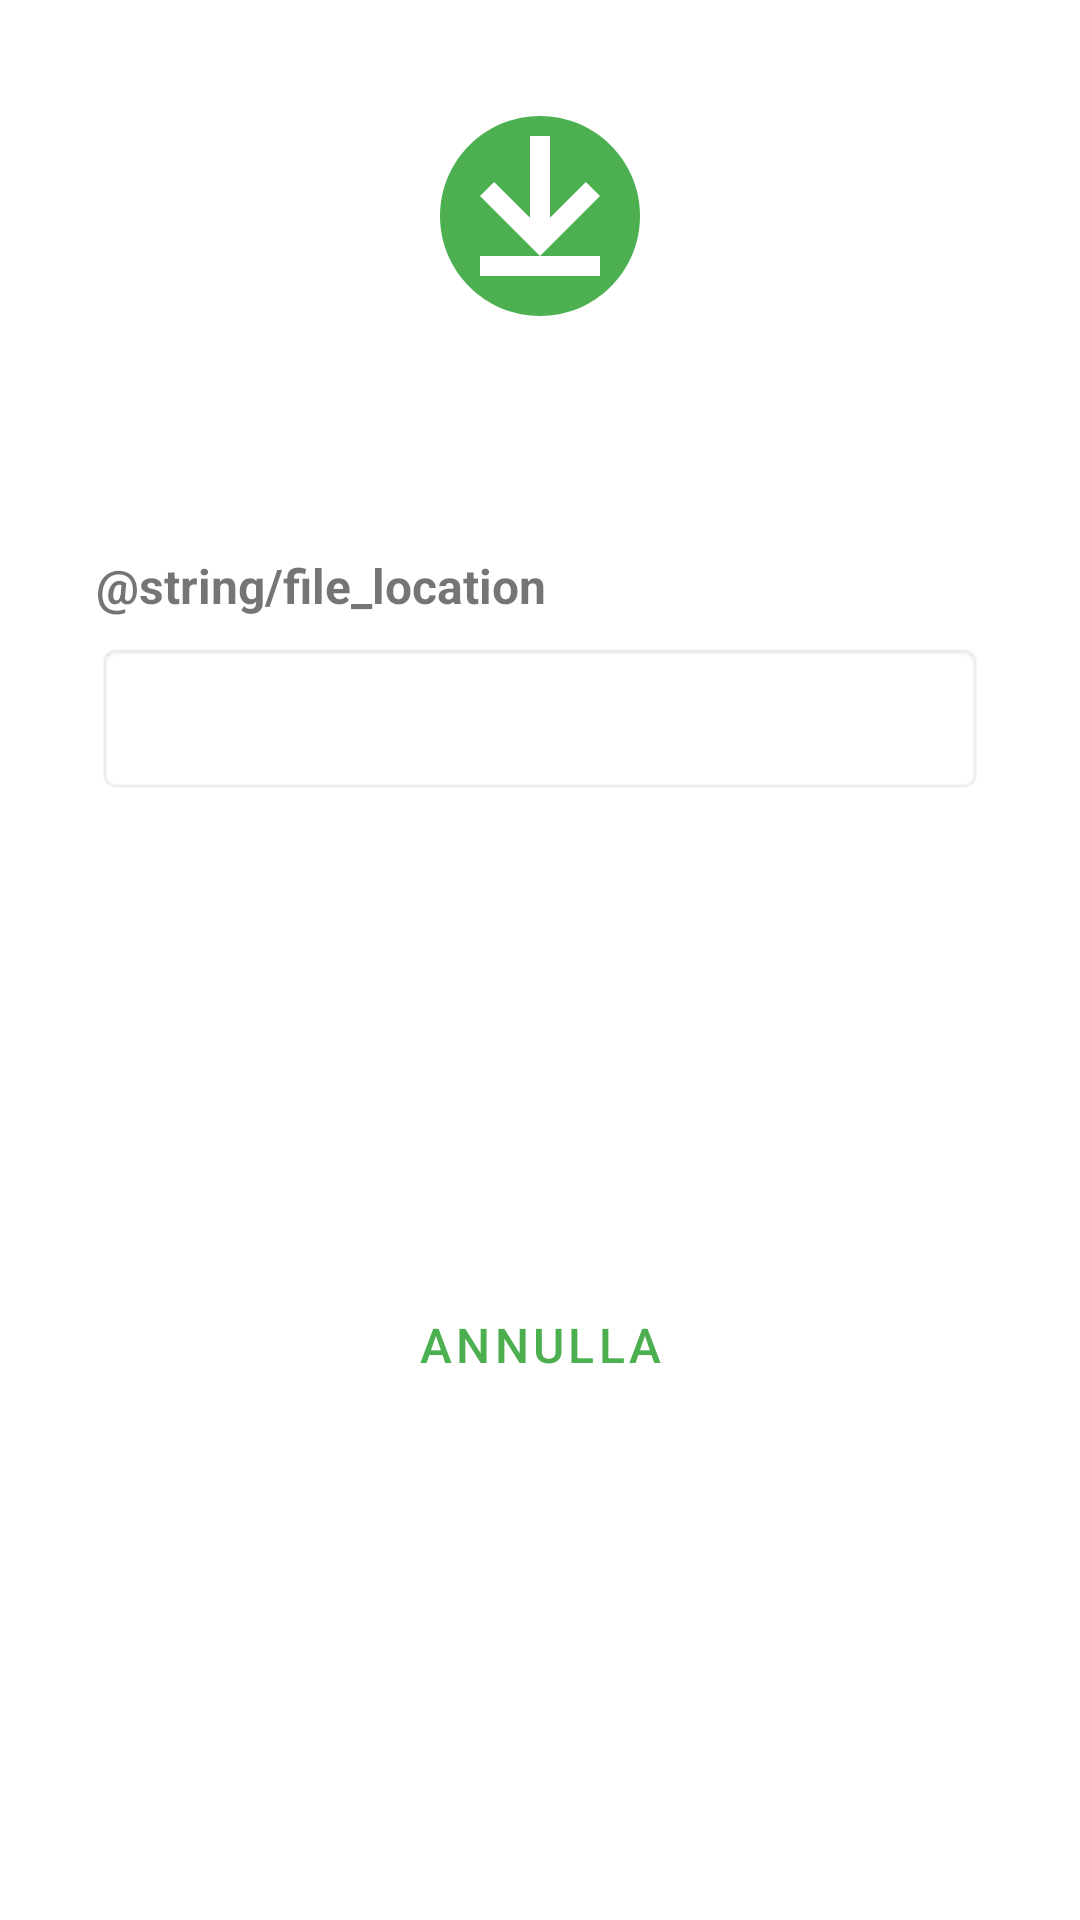

Icons on this 1080x1920 Android screen, each with its box as [x1,y1,x2,y2]:
download complete: [440,116,640,316]
